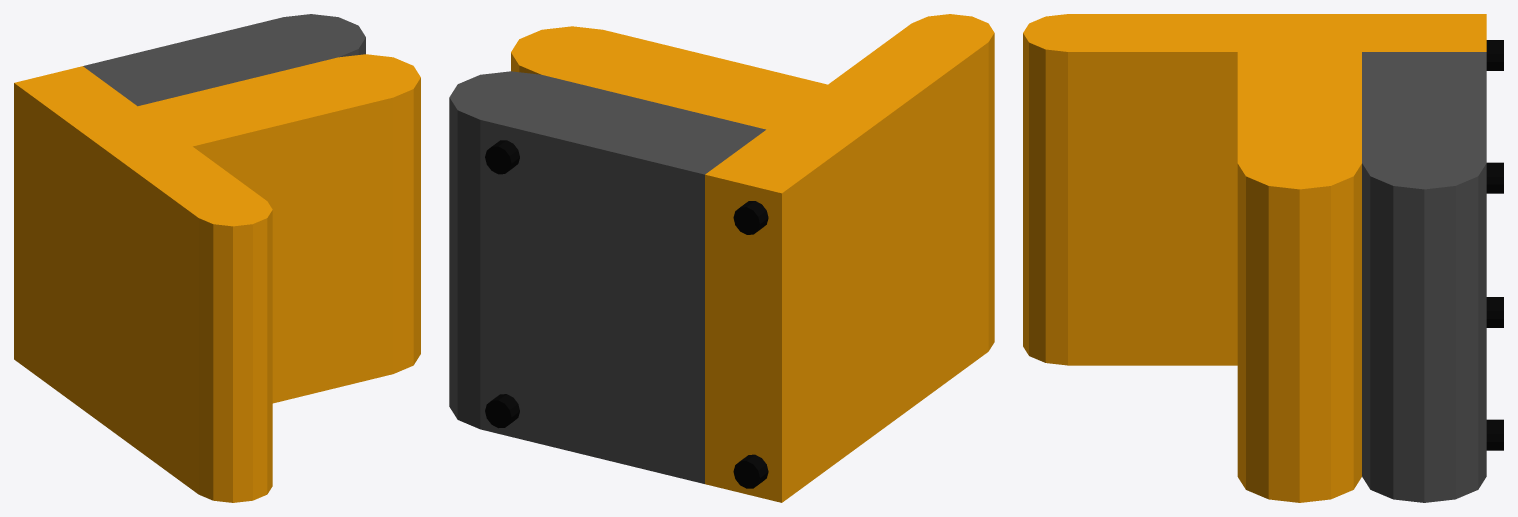
File: nil_link_mesh.dae
The picture shows the model from 3 angles, left to right: view 1: azimuth 30°, elevation 25°; view 2: azimuth 150°, elevation 25°; view 3: azimuth 270°, elevation 25°; orthographic projection. The views are drawn at different scales.
Parts seen in each view (by area): view 1: nil_link (×6); view 2: nil_link (×10); view 3: nil_link (×10).
Boxes of the visible parts, box(x1,y1,x2,y2) form: nil_link (×6): box(14, 14, 420, 502); nil_link (×10): box(449, 14, 994, 502); nil_link (×10): box(1023, 14, 1503, 502).
Size of the model in its own units: 0.6 by 0.5 by 0.695.
